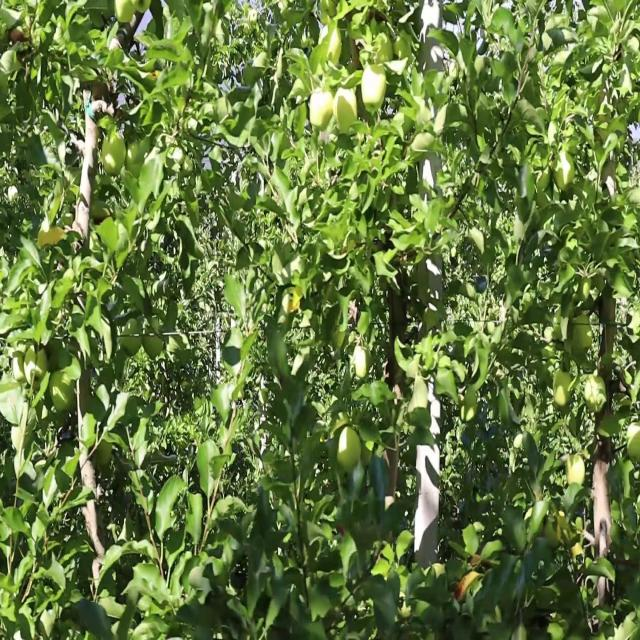apple: (336, 426, 362, 475), (364, 63, 388, 116), (336, 85, 359, 135), (552, 149, 576, 194), (312, 85, 333, 133), (104, 135, 127, 178), (320, 28, 343, 68), (584, 376, 608, 414), (40, 213, 65, 249), (40, 220, 64, 249), (556, 369, 573, 407), (568, 455, 587, 485), (556, 376, 573, 409), (356, 348, 371, 379), (628, 426, 640, 464), (288, 284, 303, 313), (12, 28, 30, 46)
